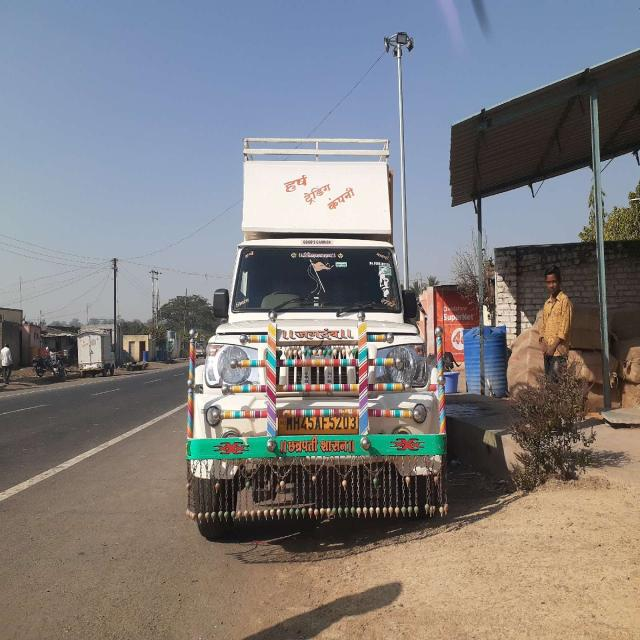light_vehicle: (183, 156, 449, 511)
